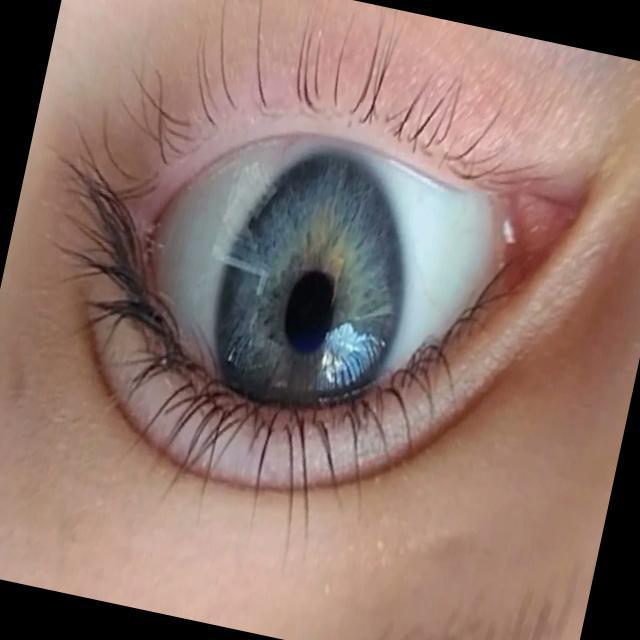Normal: (99, 85, 559, 508)
